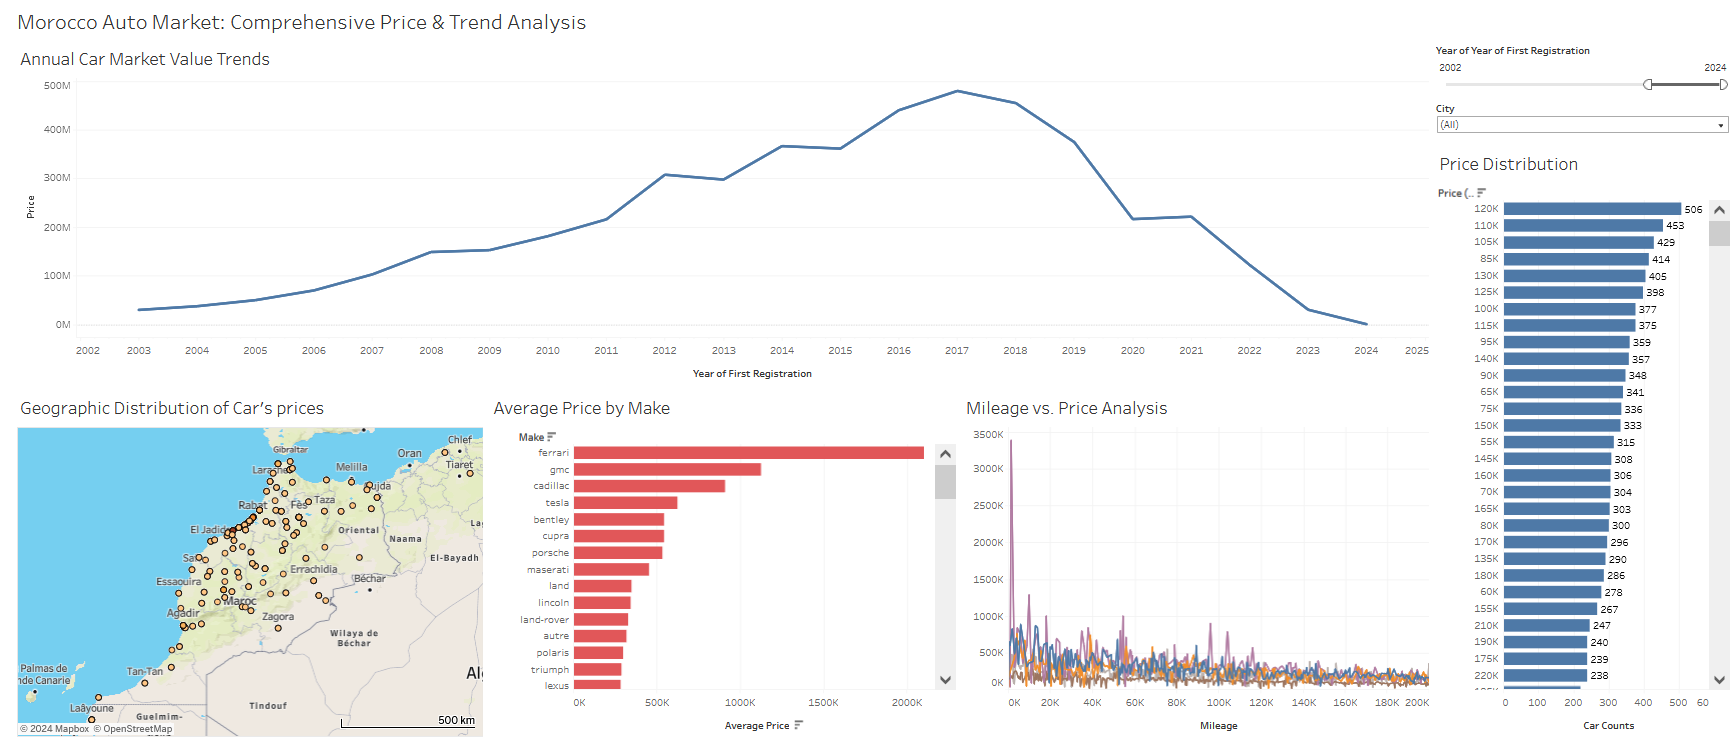

The page's visual inventory and layout, read from the dashboard file:
{"tool":"tableau","page":{"name":"Morocco Auto Market: Comprehensive Price & Trend Analysis","canvas":[2080,900],"ordinal":0},"visuals":[{"type":"title","box":[8,8,2064,42]},{"type":"worksheet","title":"Annual Car Market Value Trends","mark":"Line","rows":["Price"],"cols":["Year of First Registration"],"box":[8,50,1703,418.8]},{"type":"filter","title":"Annual Car Market Value Trends","param":"[federated.0ycu90y0fovq5n1d7d3qs0bk9iw5].[tyr:Year of First Registration:qk]","box":[1711,50,361,70]},{"type":"filter","title":"Price Distribution","param":"[federated.0ycu90y0fovq5n1d7d3qs0bk9iw5].[none:City:nk]","box":[1711,120,361,56]},{"type":"worksheet","title":"Price Distribution","mark":"Automatic","rows":["Price (classe) 2"],"cols":["Sheet1_71D286EA39EE46C39E2C581366F4584C"],"box":[1711,176,361,716]},{"type":"worksheet","title":"Geographic Distribution of Car's prices","mark":"Multipolygon","rows":["latitude"],"cols":["longitude"],"box":[8,468.8,567.5,423.2]},{"type":"worksheet","title":"Average Price by Make","mark":"Automatic","rows":["Make"],"cols":["Price"],"box":[575.6,468.8,567.7,423.2]},{"type":"worksheet","title":"Mileage vs. Price Analysis","mark":"Line","rows":["Price"],"cols":["Mileage"],"box":[1143.2,468.8,567.8,423.2]}]}

Visuals, with their boxes in screenshot pixels (x1, y1, x2, y2), scaled from the page's 2080x900 canvas onto the 1735x747 screenshot:
title: 7,7,1728,42
"Annual Car Market Value Trends" worksheet (Line marks): 7,42,1427,389
"Annual Car Market Value Trends" filter: 1427,42,1728,100
"Price Distribution" filter: 1427,100,1728,146
"Price Distribution" worksheet: 1427,146,1728,740
"Geographic Distribution of Car's prices" worksheet (Multipolygon marks): 7,389,480,740
"Average Price by Make" worksheet: 480,389,954,740
"Mileage vs. Price Analysis" worksheet (Line marks): 954,389,1427,740
